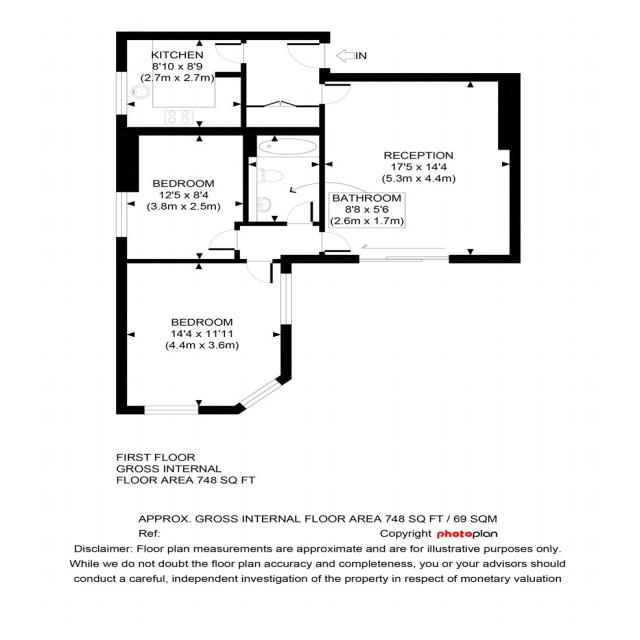DOOR: (285, 42, 331, 70), (319, 83, 352, 105), (214, 42, 247, 64), (285, 201, 314, 226), (319, 231, 351, 253), (208, 229, 240, 251), (246, 259, 273, 284)
ROOM: (319, 73, 521, 264), (116, 255, 292, 415), (115, 127, 257, 264), (115, 31, 257, 136)
WINDOW: (237, 378, 284, 411), (279, 273, 292, 326), (115, 191, 128, 239), (115, 71, 128, 116), (144, 405, 199, 415)
